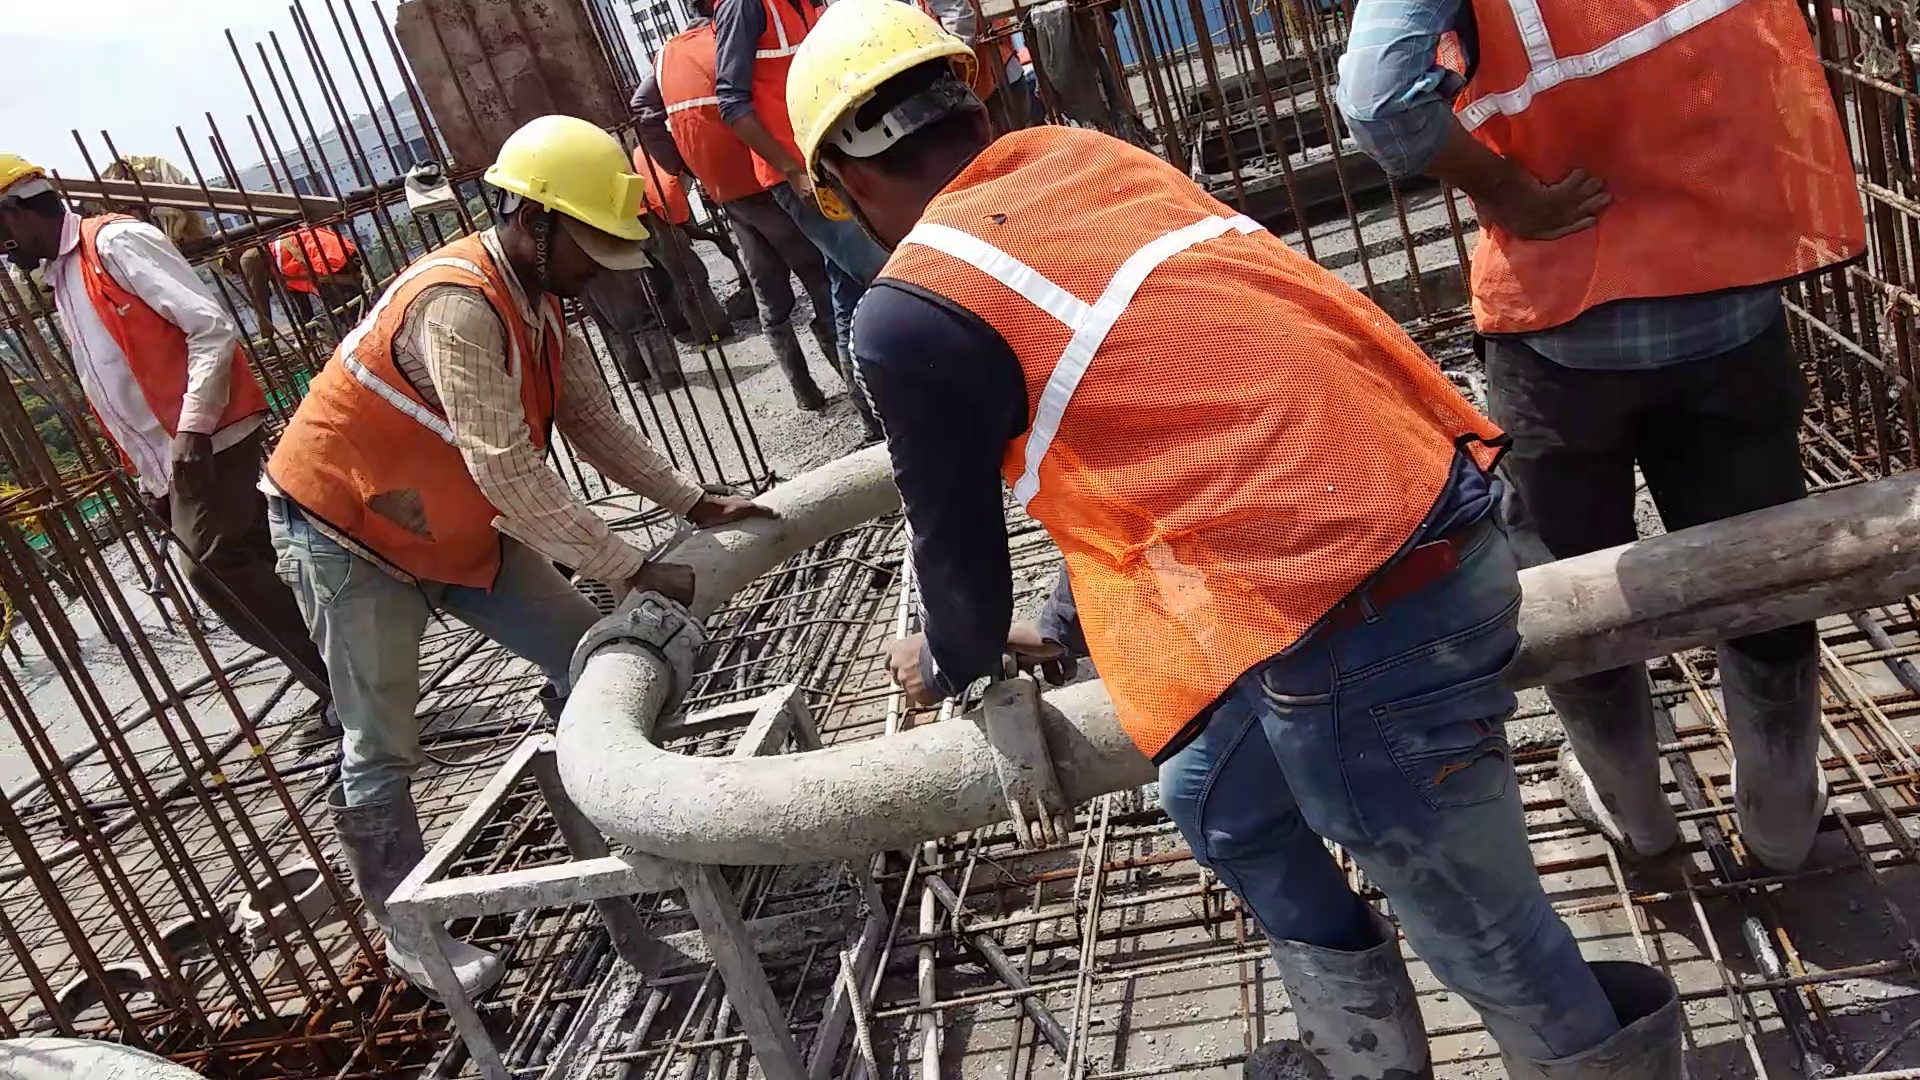SAFE: (781, 1, 1465, 716), (258, 112, 651, 578), (1, 156, 253, 477)
